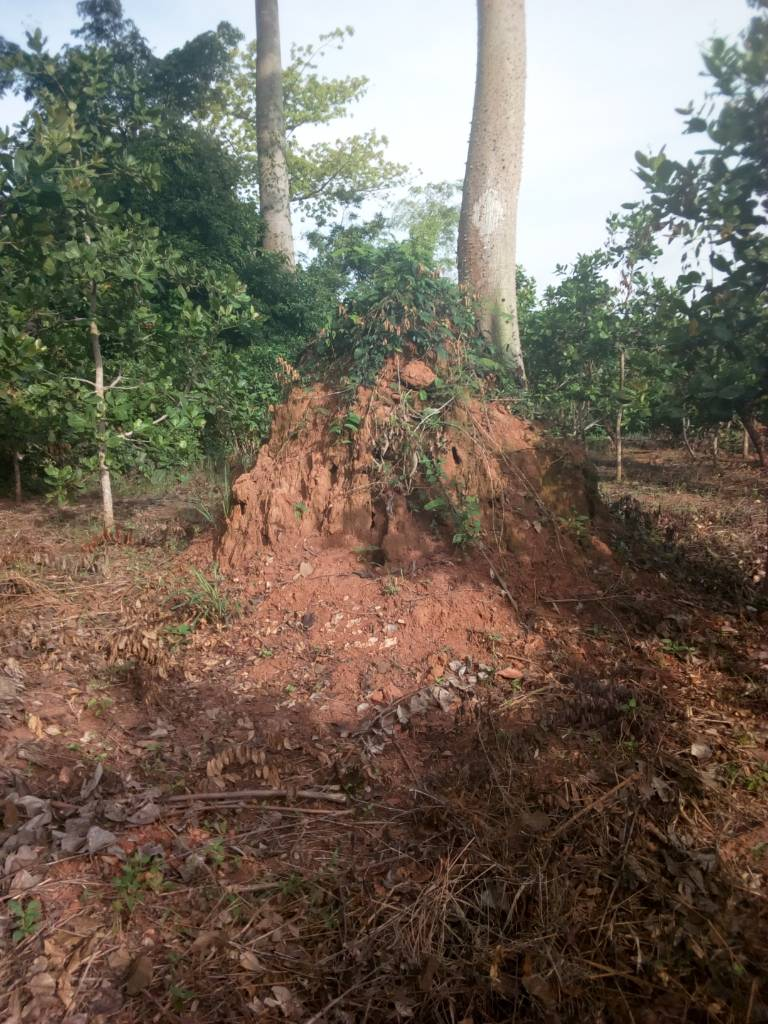Termites: (233, 441, 568, 578)
